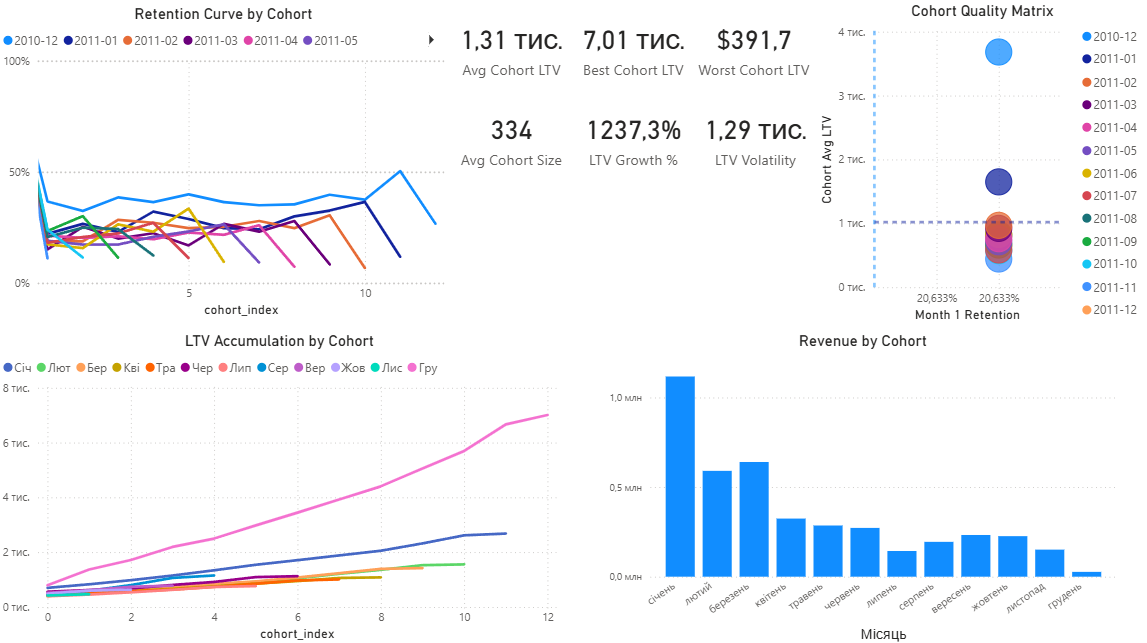

The page's visual inventory and layout, read from the dashboard file:
{"tool":"powerbi","page":{"name":"Cohort & LTV Analysis","canvas":[1280,720],"ordinal":2},"visuals":[{"type":"card","fields":{"Values":["_ Measures.Avg Cohort LTV"]},"box":[501.1,0,138.9,111.1],"z":0},{"type":"card","fields":{"Values":["_ Measures.Best Cohort LTV"]},"box":[640,0,132.2,111.1],"z":1000},{"type":"card","fields":{"Values":["_ Measures.Worst Cohort LTV"]},"box":[772.2,0,135.6,111.1],"z":2000},{"type":"card","fields":{"Values":["_ Measures.Avg Cohort Size"]},"box":[501.1,111.1,138.9,88.9],"z":3000},{"type":"card","fields":{"Values":["_ Measures.LTV Volatility"]},"box":[772.2,111.1,138.9,88.9],"z":4000},{"type":"scatterChart","title":"Cohort Quality Matrix","fields":{"Series":["LTV.cohort_month"],"X":["retention_rate.Month 1 Retention"],"Y":["LTV.Cohort Avg LTV"],"Size":["LTV.Cohort Size"]},"box":[907.8,0,372.2,360],"z":5000},{"type":"lineChart","title":"LTV Accumulation by Cohort","fields":{"Category":["LTV.cohort_index"],"Y":["Avg(LTV.ltv_per_customer)"],"Series":["LTV.Cohort Month Name"]},"box":[0,360,706.7,360],"z":6000},{"type":"card","fields":{"Values":["LTV.LTV Growth %"]},"box":[640,111.1,132.2,88.9],"z":7000},{"type":"lineChart","title":"Retention Curve by Cohort","fields":{"Category":["retention_rate.cohort_index"],"Y":["Avg(retention_rate.retention_rate)"],"Series":["retention_rate.cohort_month"]},"box":[0,0,501.1,360],"z":7002},{"type":"clusteredColumnChart","title":"Revenue by Cohort","fields":{"Y":["Sum(Revenue by Acquisition Cohort.cohort_revenue)"],"Category":["Revenue by Acquisition Cohort.cohort_month.Варіація.Ієрархія дат.Місяць"]},"box":[706.7,360,573.3,360],"z":7003}]}

Visuals, with their boxes in screenshot pixels (x1, y1, x2, y2), scaled from the page's 1280x720 canvas onto the 1147x643 screenshot:
card - _ Measures.Avg Cohort LTV: l=449, t=0, r=574, b=99
card - _ Measures.Best Cohort LTV: l=574, t=0, r=692, b=99
card - _ Measures.Worst Cohort LTV: l=692, t=0, r=813, b=99
card - _ Measures.Avg Cohort Size: l=449, t=99, r=574, b=179
card - _ Measures.LTV Volatility: l=692, t=99, r=816, b=179
"Cohort Quality Matrix" scatterChart: l=813, t=0, r=1146, b=322
"LTV Accumulation by Cohort" lineChart: l=0, t=322, r=633, b=642
card - LTV.LTV Growth %: l=574, t=99, r=692, b=179
"Retention Curve by Cohort" lineChart: l=0, t=0, r=449, b=322
"Revenue by Cohort" clusteredColumnChart: l=633, t=322, r=1146, b=642
